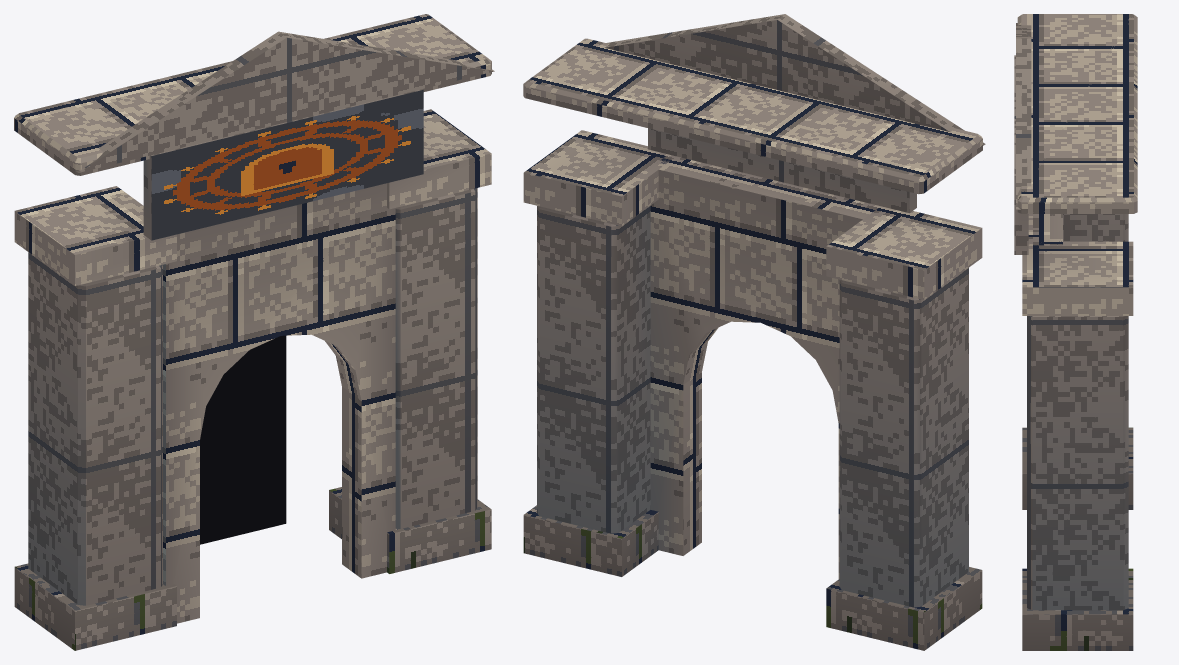
Rendered from tmpl.boss_door__open.glb.
3 views of the same model, side by side, from view 1: azimuth 30°, elevation 25°; view 2: azimuth 150°, elevation 25°; view 3: azimuth 270°, elevation 25° (orthographic). The views are drawn at different scales.
Visible parts, largest first — view 1: kit_surround, kit_lintel, kit_card_dark; view 2: kit_surround, kit_lintel; view 3: kit_surround, kit_lintel.
Boxes of the visible parts, bbox=[...] form: kit_surround: bbox=[14, 109, 491, 650]; kit_lintel: bbox=[14, 14, 494, 240]; kit_card_dark: bbox=[200, 335, 286, 544]; kit_surround: bbox=[523, 130, 982, 650]; kit_lintel: bbox=[523, 14, 985, 213]; kit_surround: bbox=[1022, 214, 1133, 650]; kit_lintel: bbox=[1014, 14, 1137, 254].
Bounding box in the file's own units: 4.9 × 6.35 × 1.67.
Materials: 5 (5 with a texture image).
